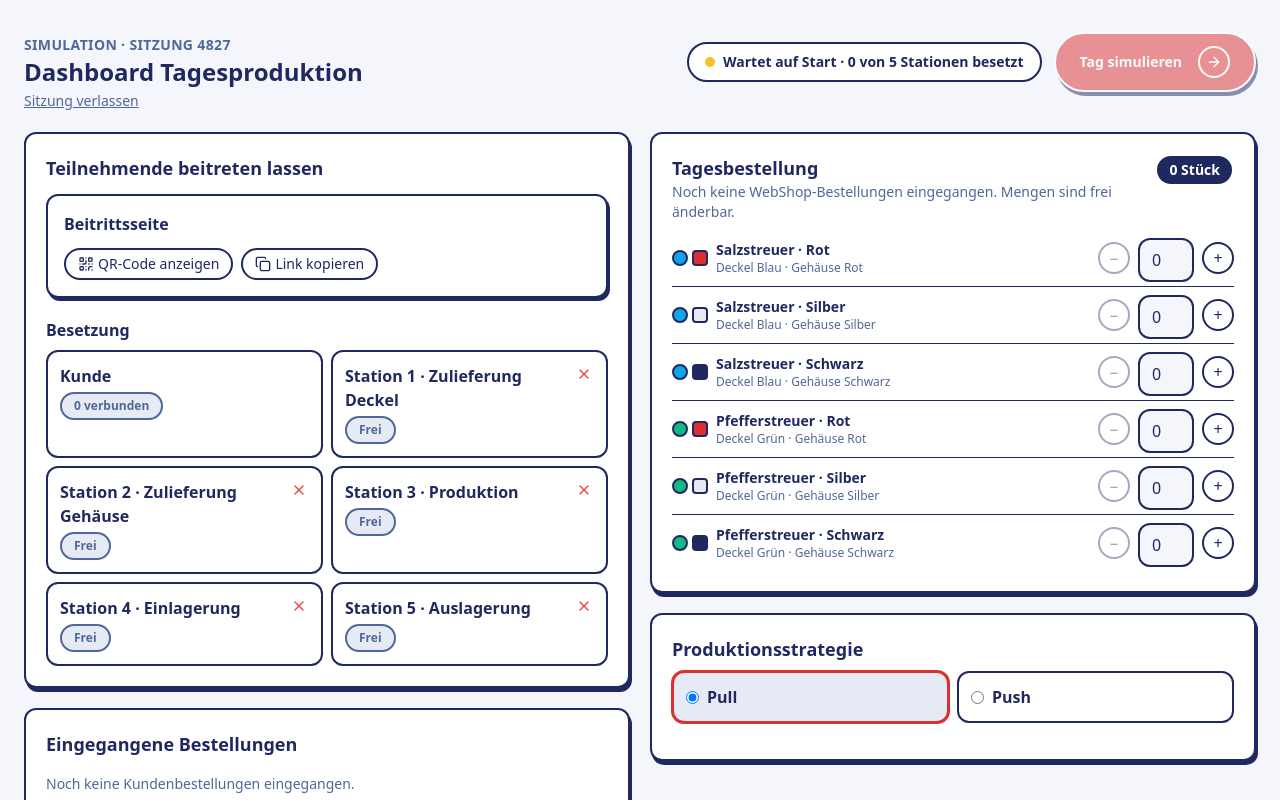
Scenario: SimulationDashboardPage › does not start the day when sending the configuration fails (#144)
Expected: the heading "Dashboard Tagesproduktion" is shown, left=24, top=56, right=363, bottom=88
Replace the text in the field named "Tagesauftrag Salz (Deckel blau) · Gehäuse rot" with "2" at (1166, 260), box left=1138, top=238, right=1194, bottom=282
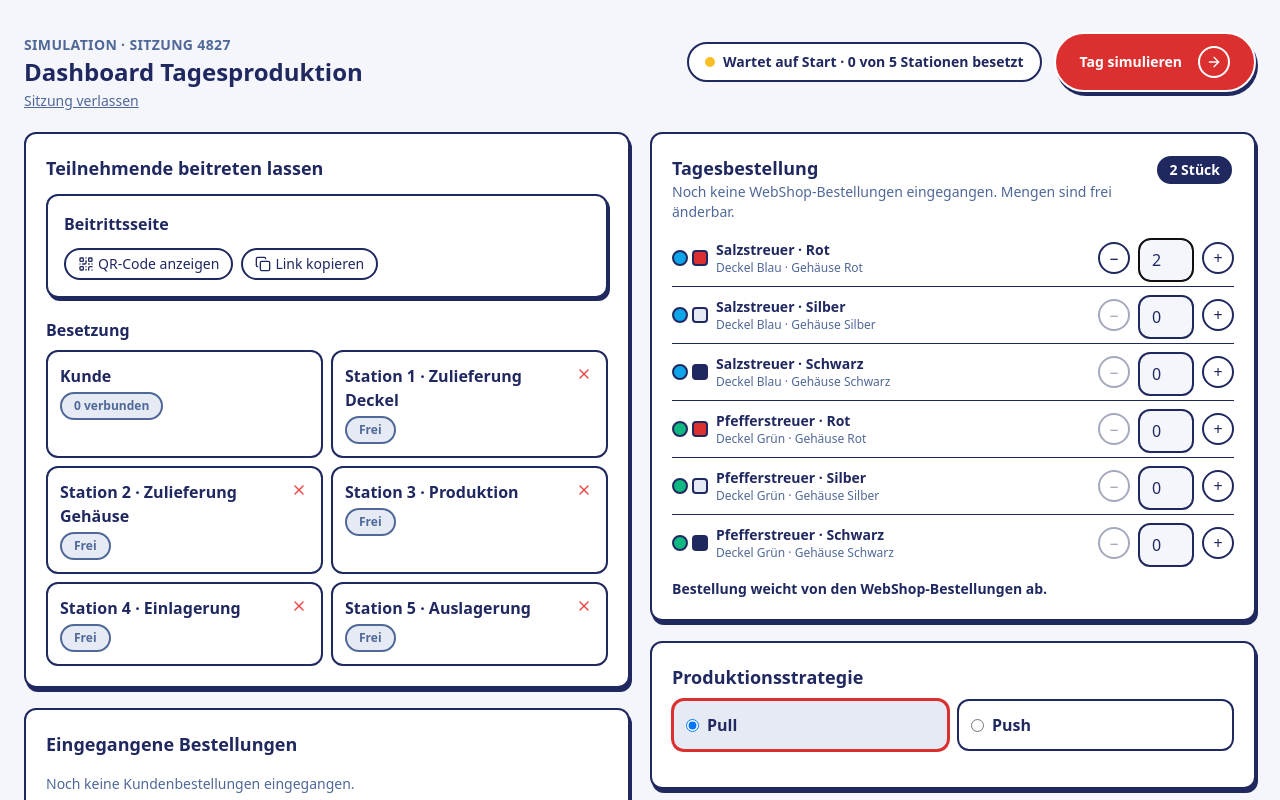
Click the button "Tag simulieren" at (1155, 62), box left=1054, top=32, right=1256, bottom=92
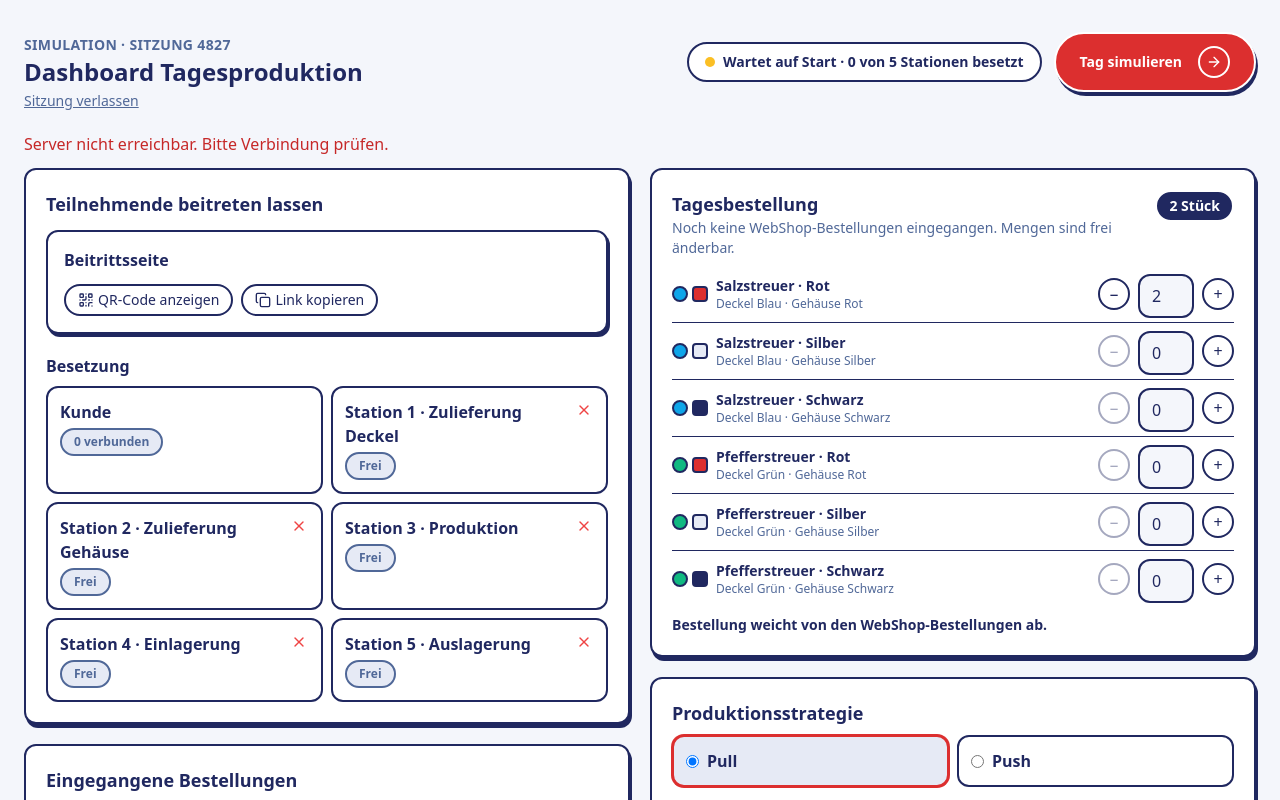
Expected: the text "Server nicht erreichbar. Bitte Verbindung prüfen." is shown, left=24, top=133, right=388, bottom=155
